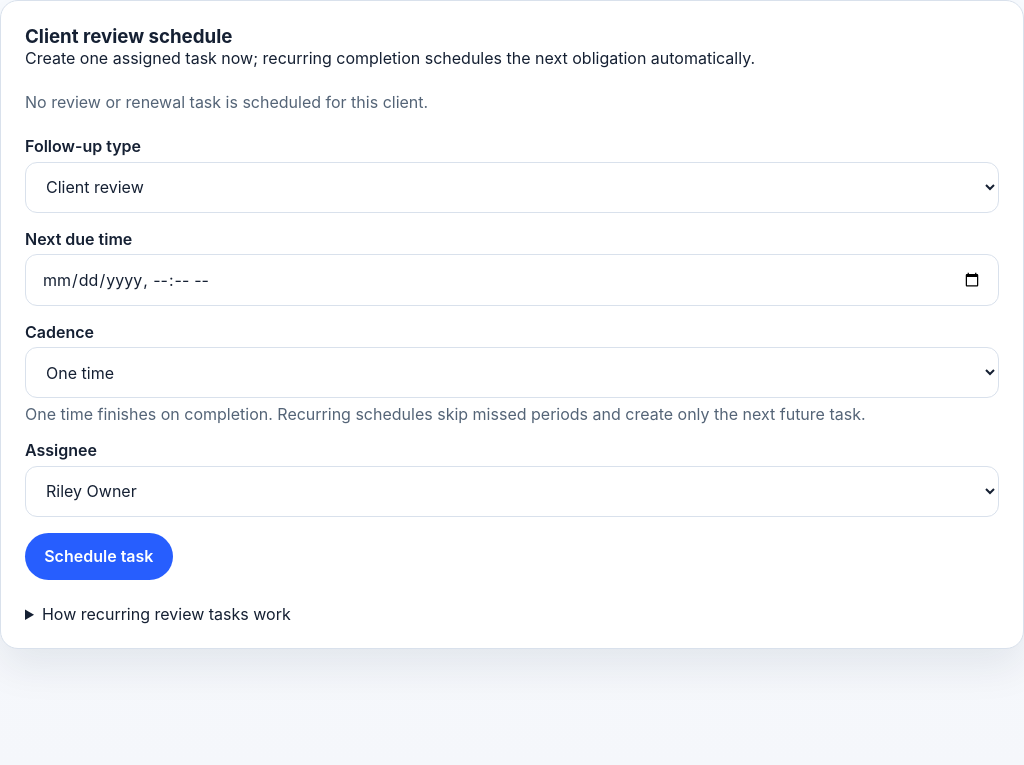
client review schedule › schedules a recurring ordinary task and exposes its exact execution state
The image size is (1024, 765).
Expected: the text "No review or renewal task is scheduled for this client." is shown, [25,92,428,112]
Select "Client renewal" in the dropdown labelled "Follow-up type" at (512, 187), box [25,162,999,213]
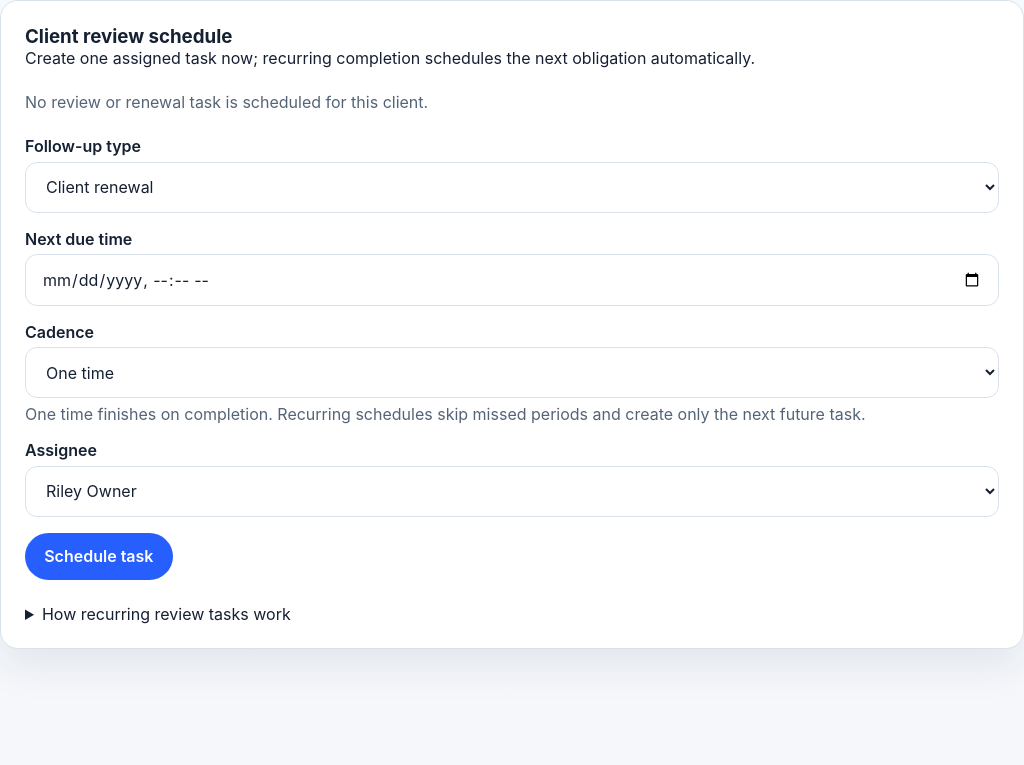
Type "2026-08-15T15:00" into the field labelled "Next due time" at (512, 280), box [25,254,999,306]
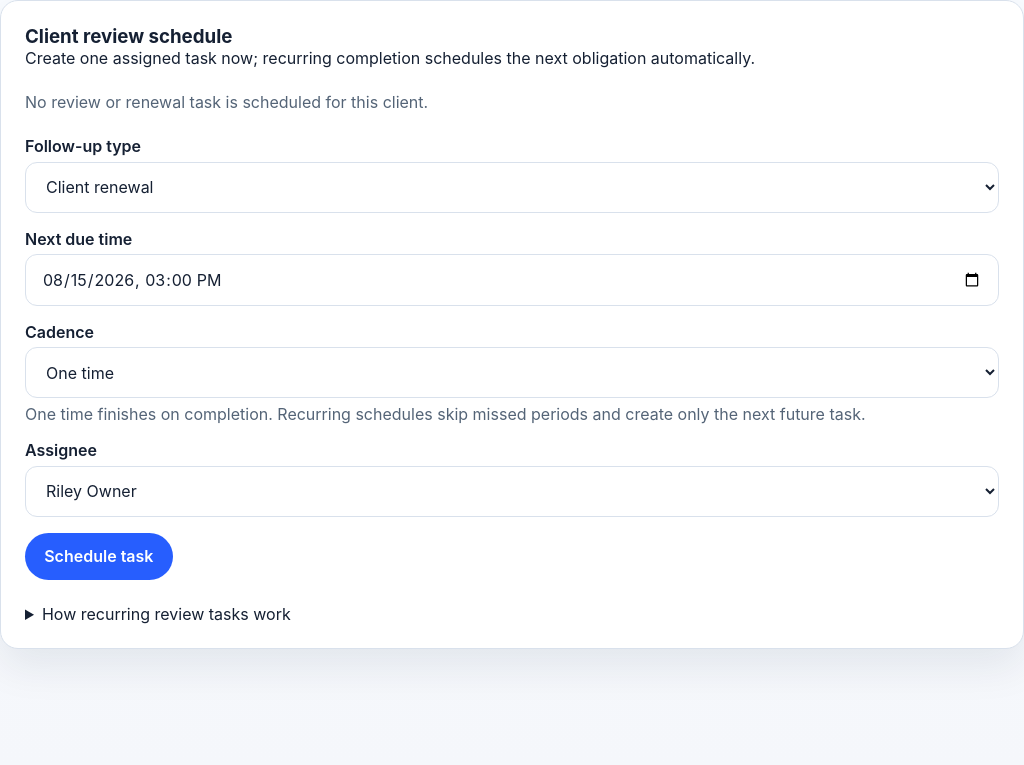
Select "Every 12 months" in the dropdown labelled "Cadence" at (512, 373), box [25,347,999,398]
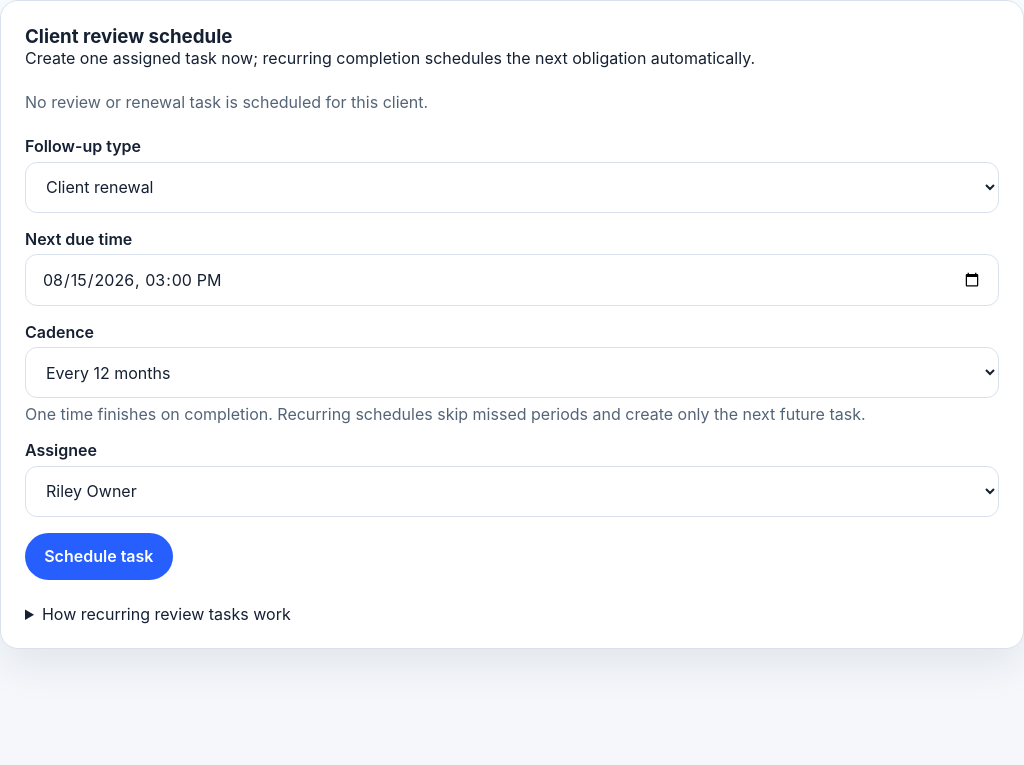
Click the button "Schedule task" at (99, 556), box [25,533,173,580]
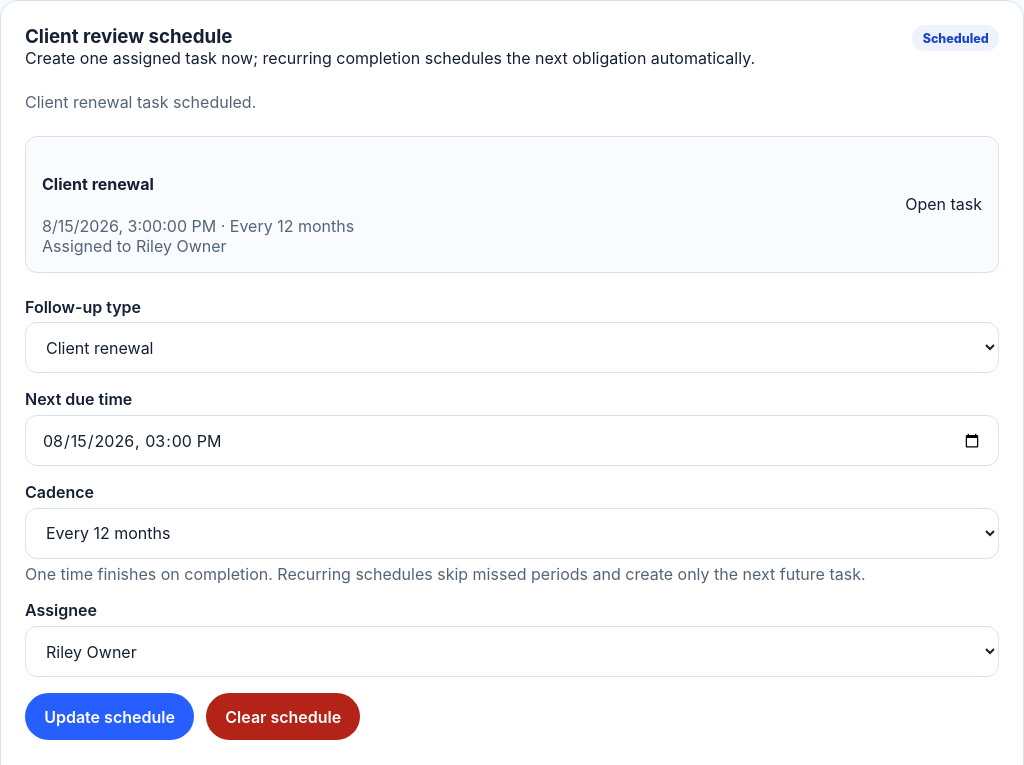
Result: the heading "Client renewal" is shown at [42,174,154,194]
Result: the text "8/15/2026, 3:00:00 PM · Every 12 months" is shown at [42,216,354,236]
Result: the text "Client renewal task scheduled." is shown at [25,92,256,112]
